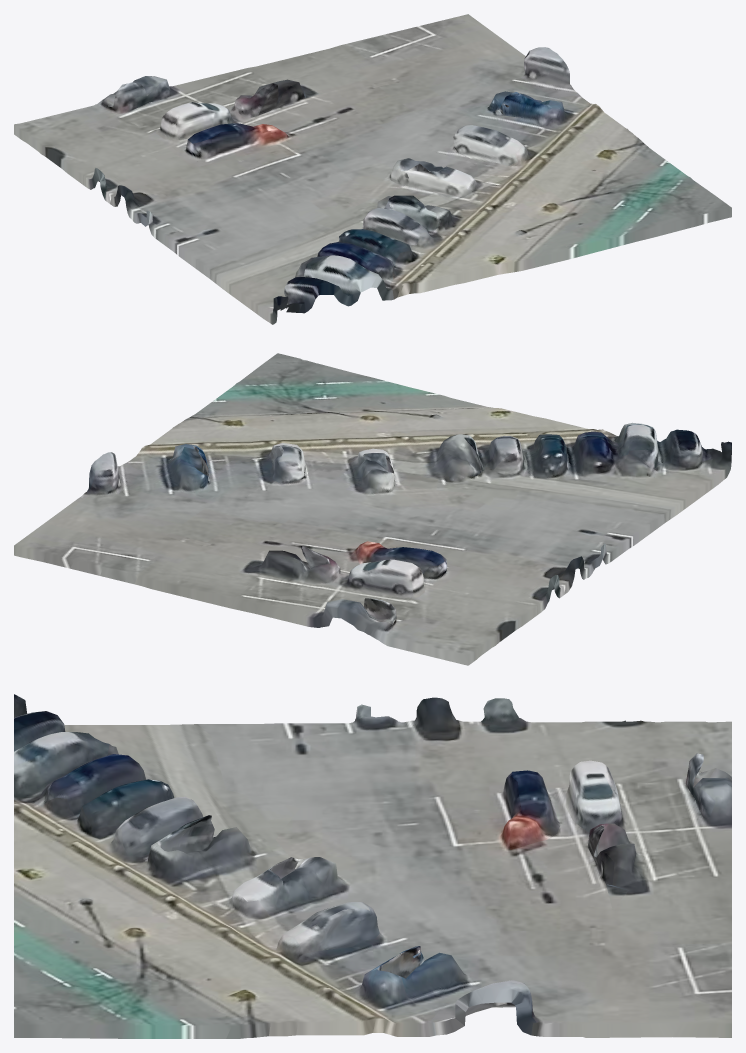
File: z20-167772-405199-h0-yup-uvflip-v3-world.glb
3 views of the same model, one above another, from view 1: azimuth 30°, elevation 25°; view 2: azimuth 150°, elevation 25°; view 3: azimuth 270°, elevation 25° (orthographic). The views are drawn at different scales.
Bounding box in the file's own units: 30.16 × 2.52 × 30.32.
Materials: 1 (1 with a texture image).
